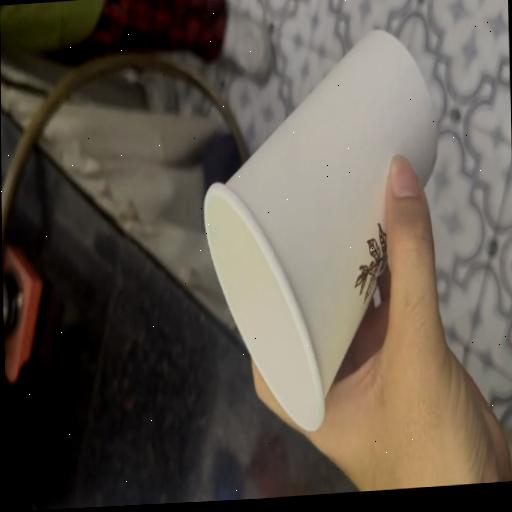Ly_giay: (204, 31, 437, 429)
